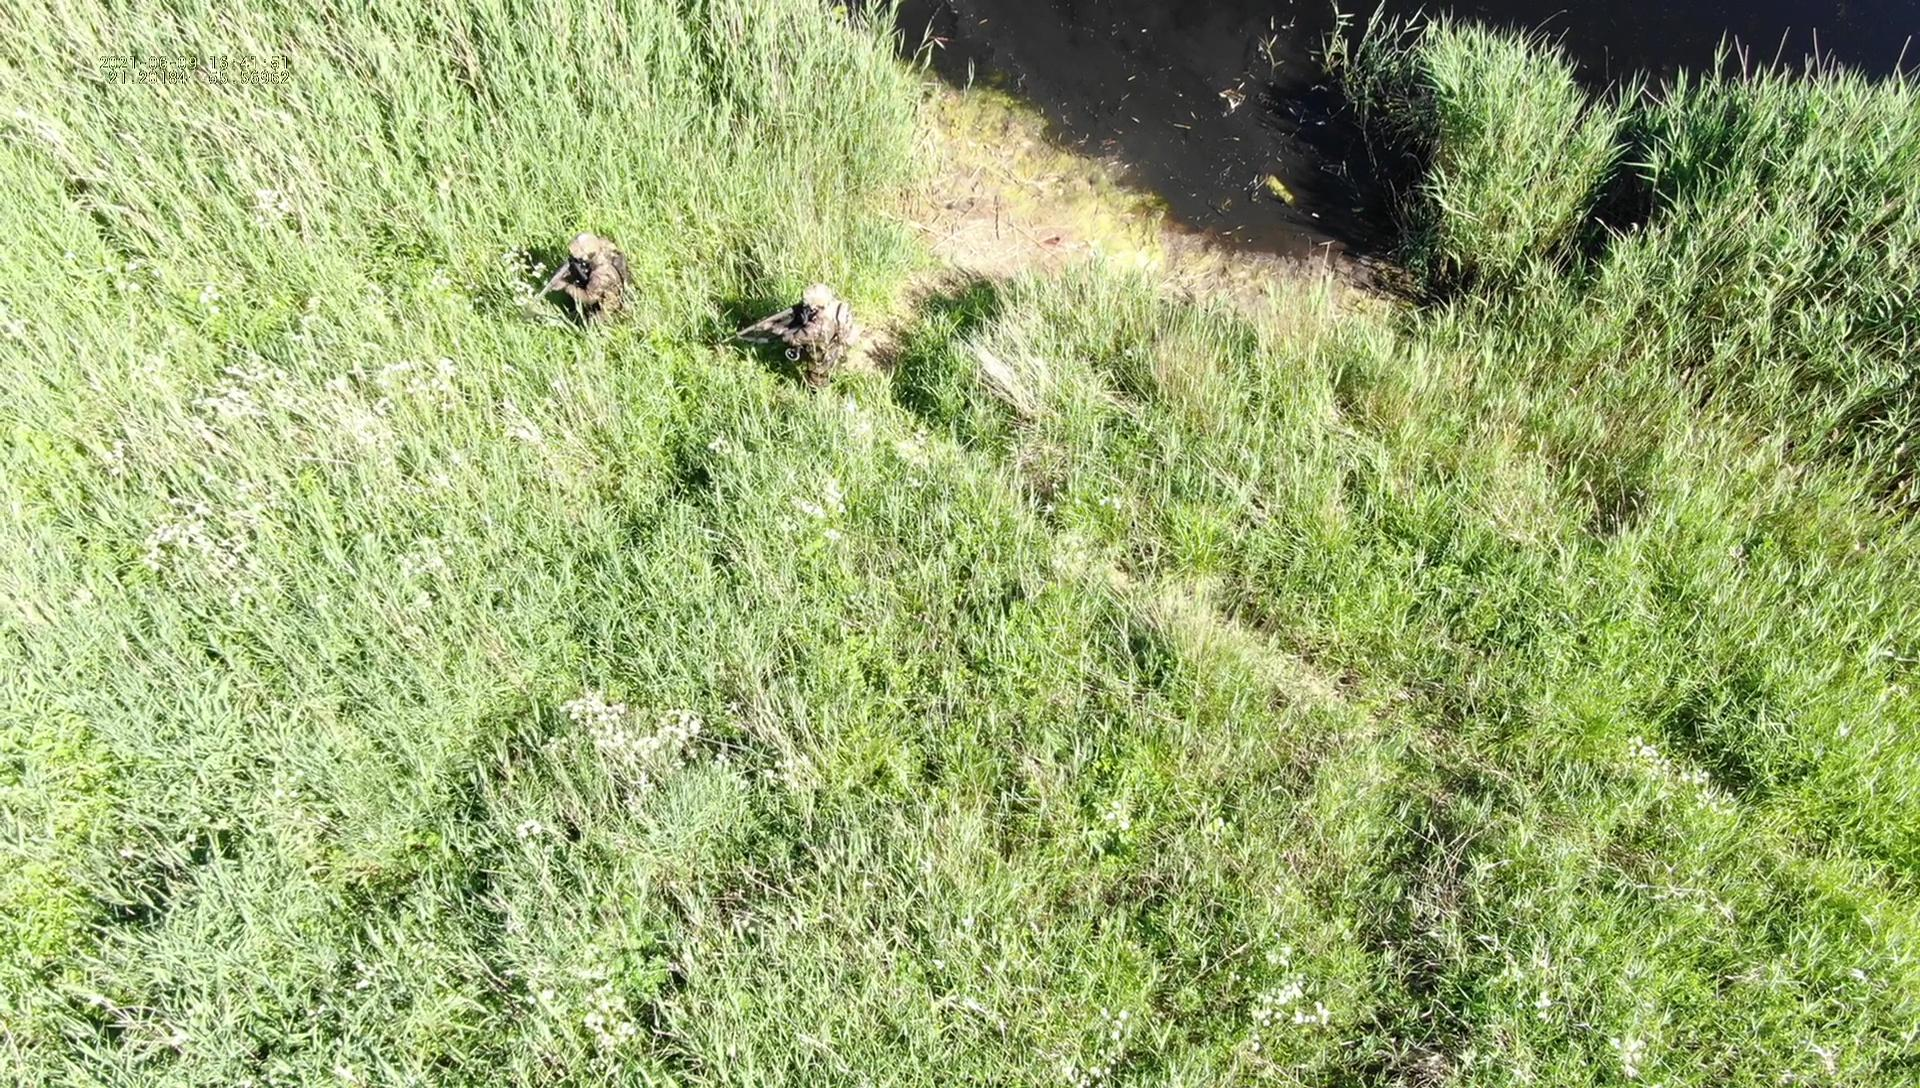Soldier: (723, 284, 853, 390), (526, 232, 630, 328)
